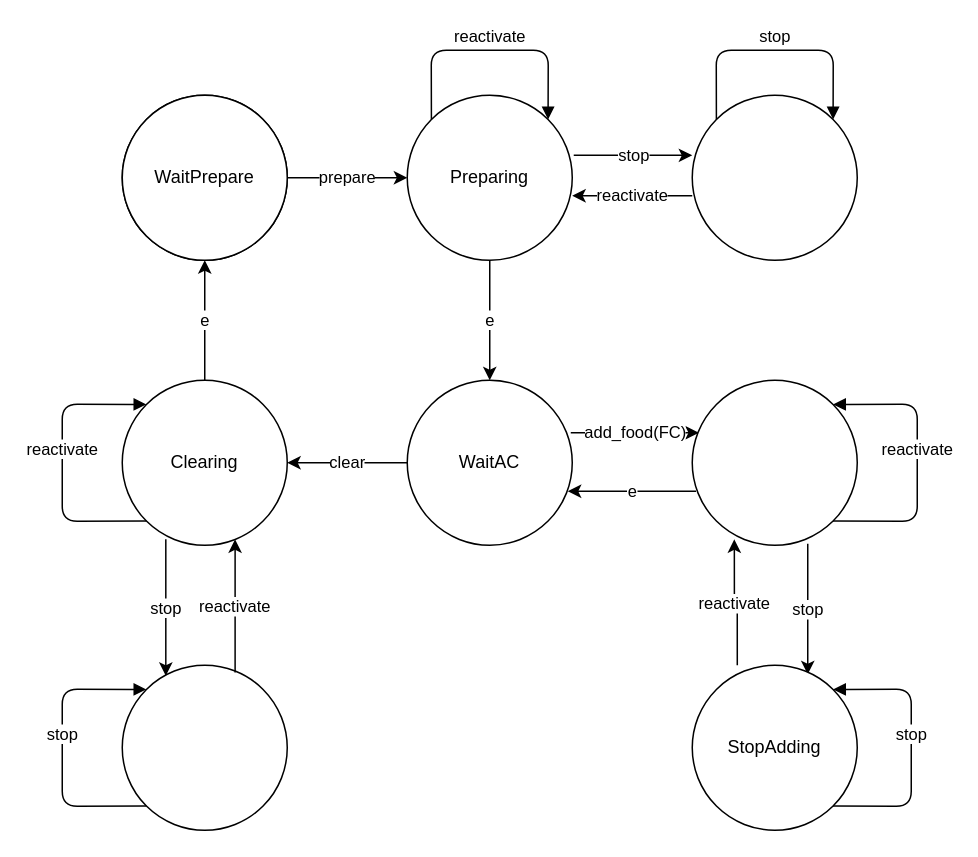
This 978x857 diagram has some shape labels left out. Here are the shapes that lost their labels. From the top down, the centre of each, then its label:
At pixel 774 177: "StopPrepare".
At pixel 774 462: "Adding".
At pixel 204 747: "StopClearing".
